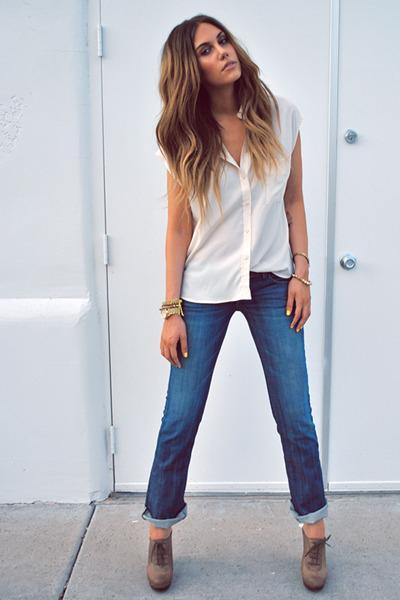pants: (142, 271, 323, 519)
shirt: (182, 88, 302, 302)
shoe: (145, 531, 330, 593)
